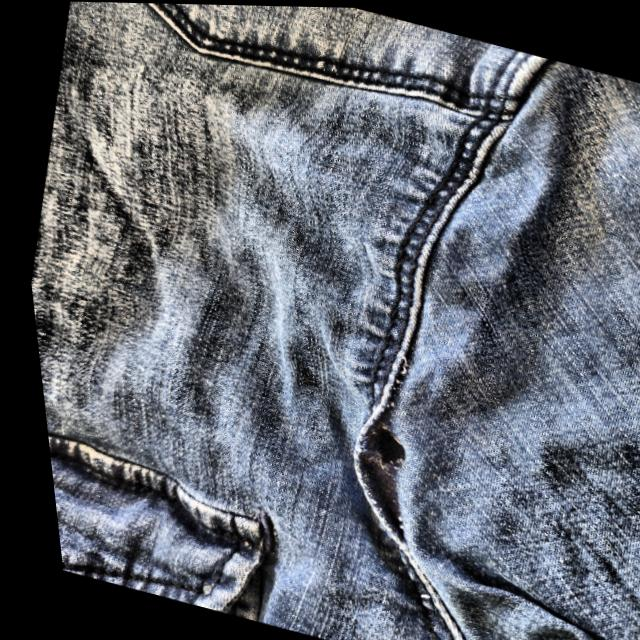seam: (306, 396, 441, 557)
